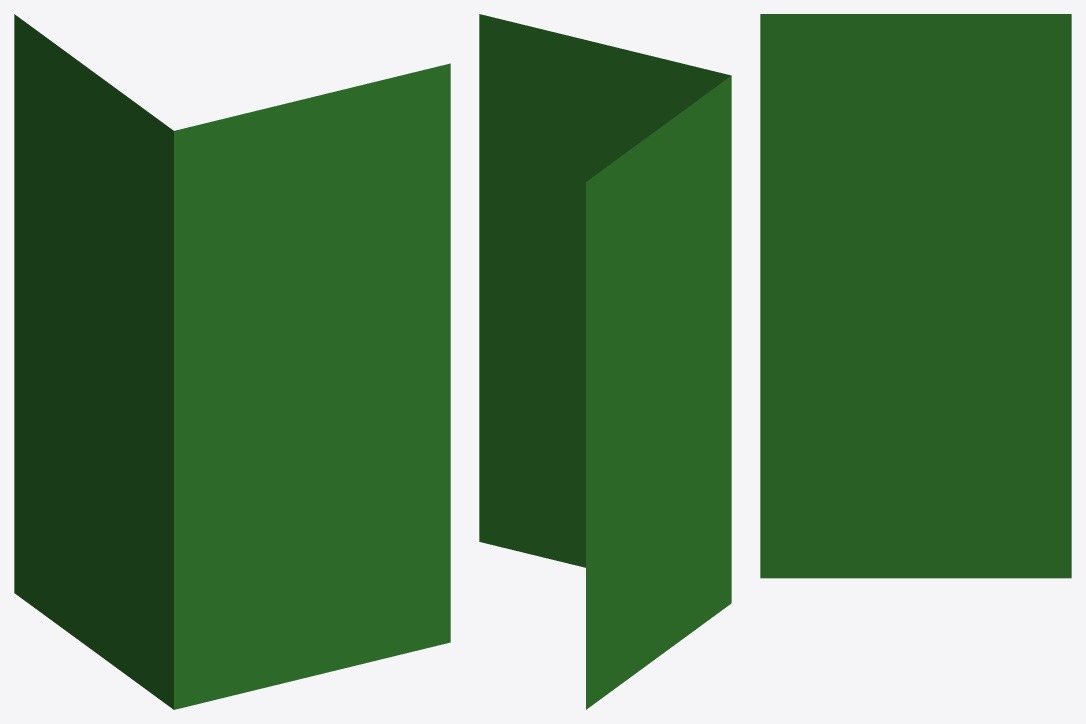
File: WallCorner 2x2_.FBX
3 renders of one model, left to right at view 1: azimuth 30°, elevation 25°; view 2: azimuth 150°, elevation 25°; view 3: azimuth 270°, elevation 25°, orthographic. The views are drawn at different scales.
Visible parts, largest first — view 1: WallCorner 2x2_; view 2: WallCorner 2x2_; view 3: WallCorner 2x2_.
Boxes of the visible parts, box(x1,y1,x2,y2) form: WallCorner 2x2_: box(14, 14, 450, 709); WallCorner 2x2_: box(479, 14, 731, 709); WallCorner 2x2_: box(760, 14, 1071, 578).
Bounding box in the file's own units: 200 × 400 × 200.
